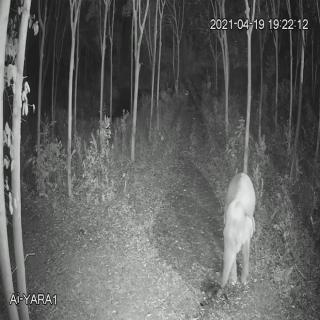Elephant: (213, 163, 259, 290)
